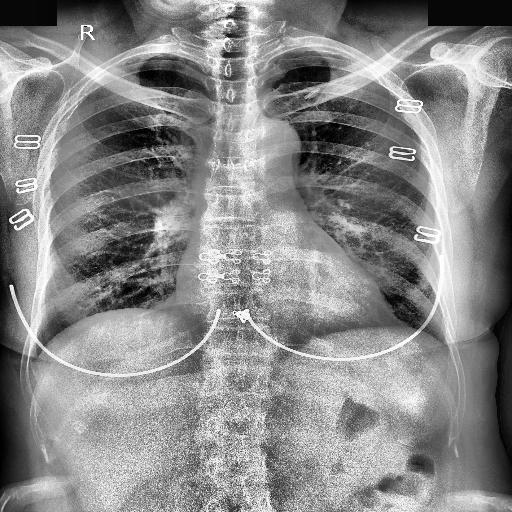0- Aortic enlargement: (246, 114, 300, 176), (243, 117, 299, 160)
11- Pleural thickening: (286, 43, 374, 70), (117, 46, 193, 67), (108, 52, 170, 68), (287, 45, 358, 57)
3- Cardiomegaly: (172, 280, 401, 332)
